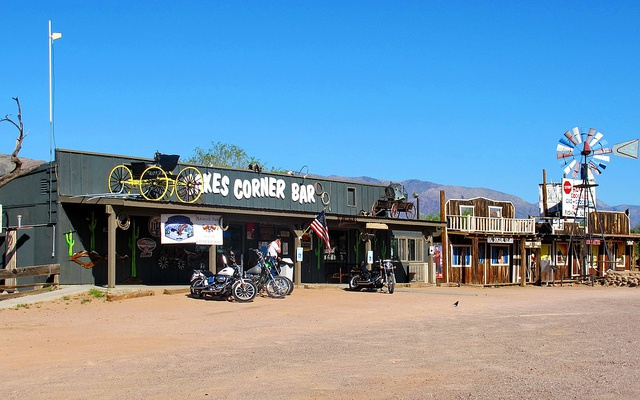non-vehicle: (189, 248, 291, 302), (348, 257, 394, 292)
